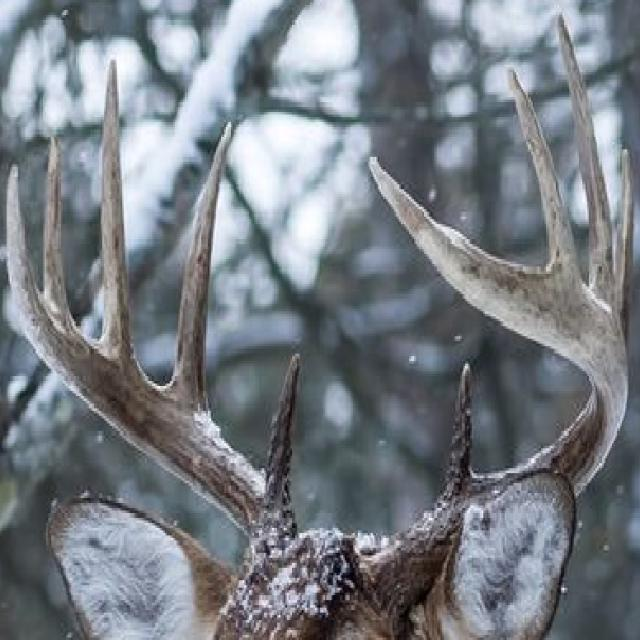L-F: (350, 156, 631, 618)
L-G1: (441, 361, 480, 496)
L-G2: (612, 145, 633, 351)
L-G3: (556, 13, 615, 319)
L-G4: (506, 67, 587, 287)
R-F: (5, 162, 298, 563)
R-G1: (260, 350, 301, 499)
R-G2: (165, 119, 233, 420)
R-G3: (100, 57, 135, 357)
R-G4: (42, 134, 78, 329)
